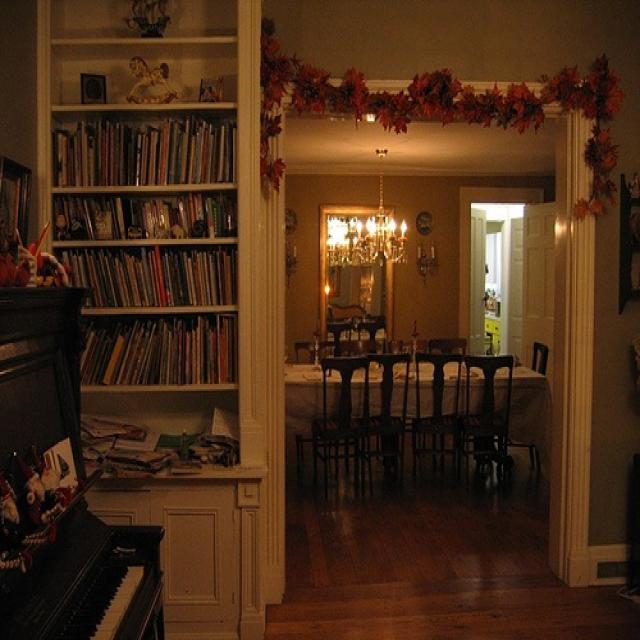chair: (311, 354, 367, 492), (500, 340, 550, 474), (364, 350, 412, 488), (464, 352, 514, 483), (412, 350, 462, 476)
diningtable: (286, 362, 549, 474)
